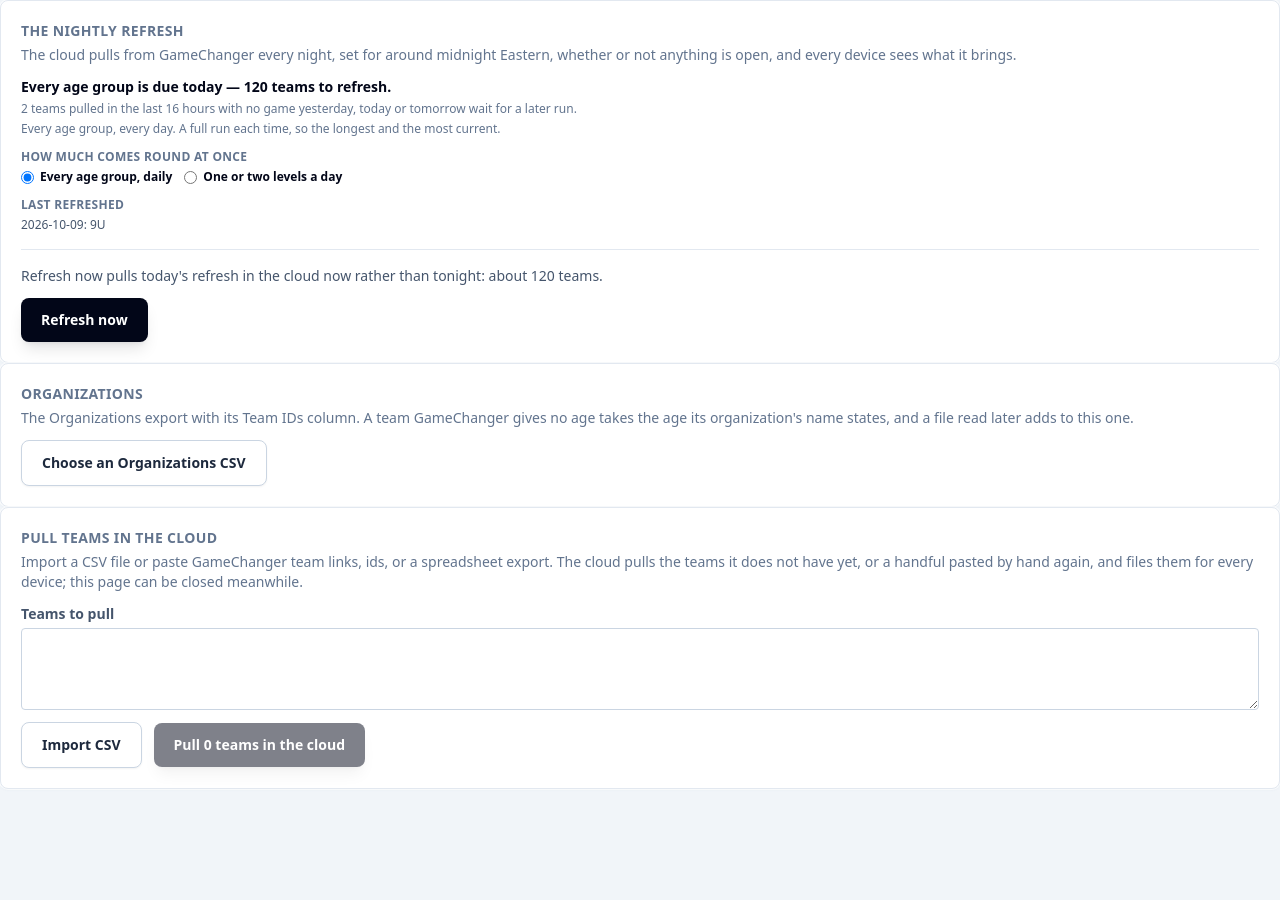
Scenario: Refresh now on the Import tab › says a refusal plainly, and watches nothing
The width and height of the screenshot is (1280, 900).
Expected: the text with test id "refresh-offer" is shown, x1=21 y1=266 x2=603 y2=285
Step 1. Click the button "Refresh now" → (84, 320), box x1=21 y1=298 x2=148 y2=342
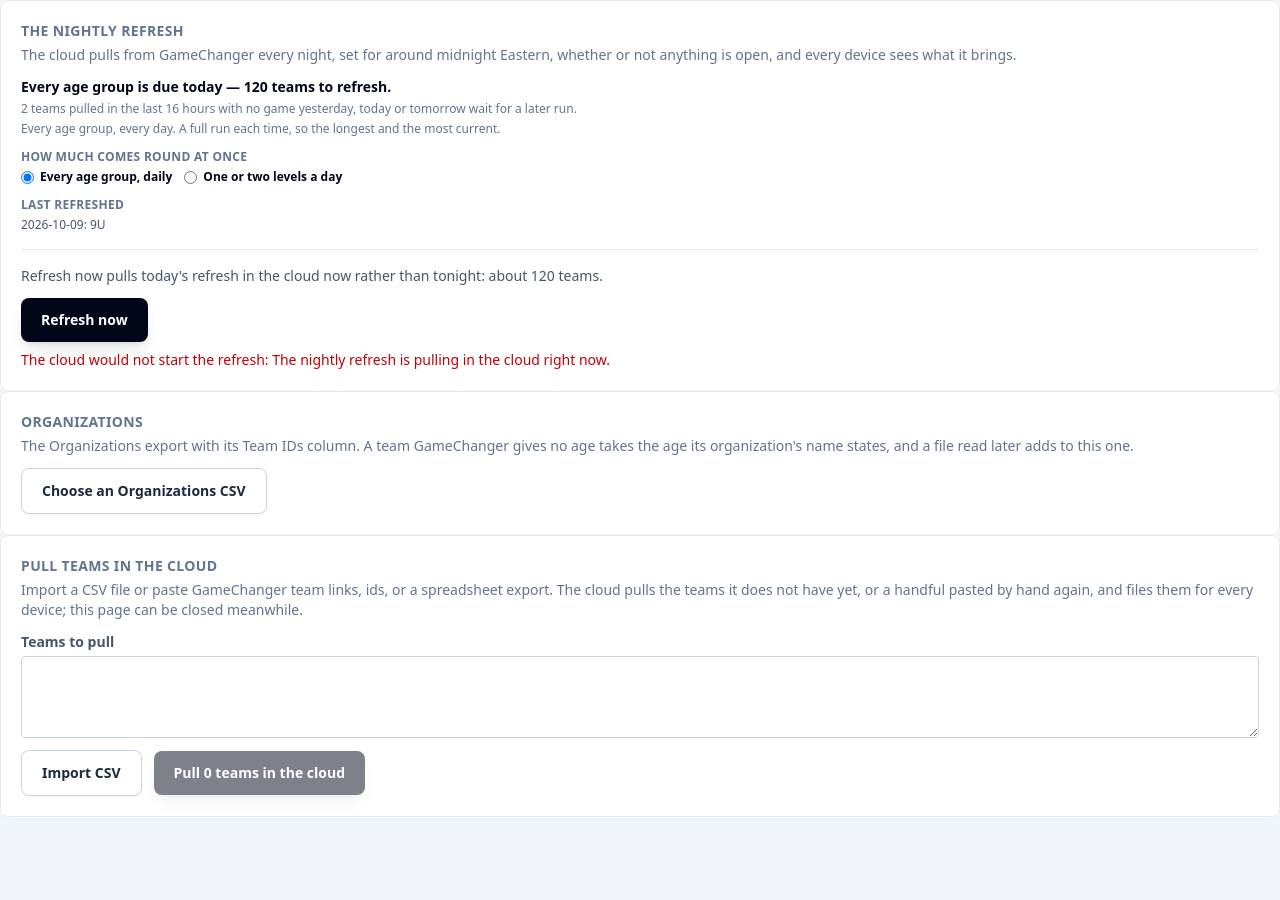
Expected: the message shows "The cloud would not start the refresh: The nightly refresh is pulling in the cloud right now.", x1=21 y1=350 x2=610 y2=369
